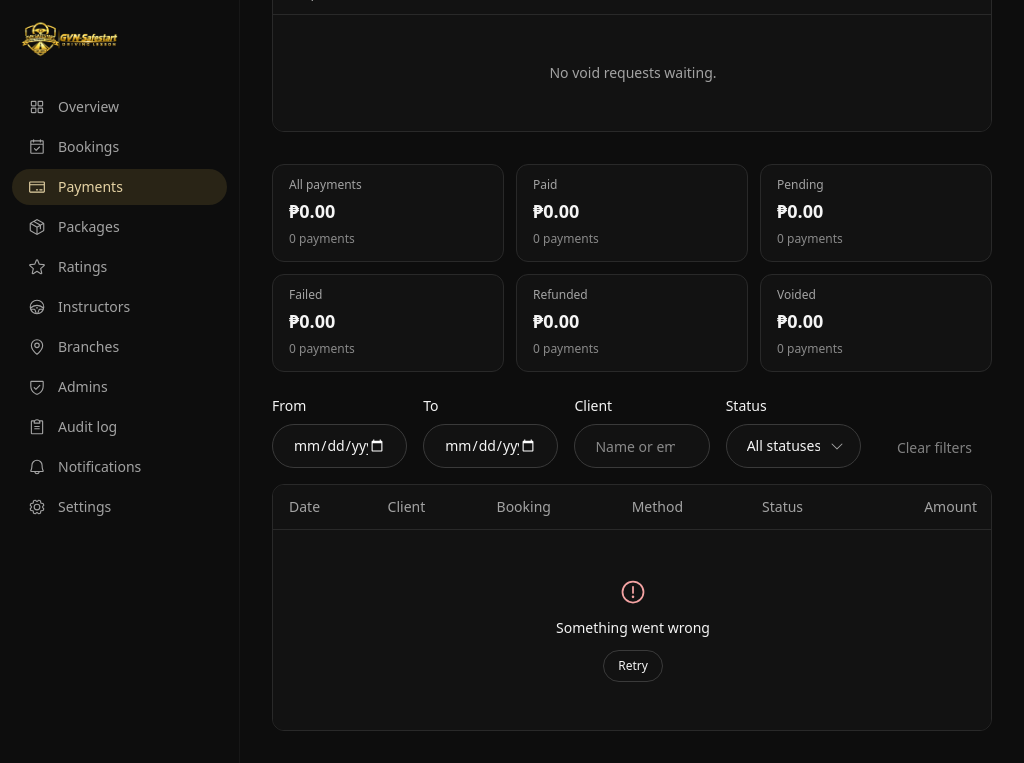
payments › shows an error with retry
(page scrolled)
Expected: the message shows "Something went wrong", [556,618,710,637]
Click the button "Retry" at [633, 666], box [603,650,663,682]
(page scrolled)
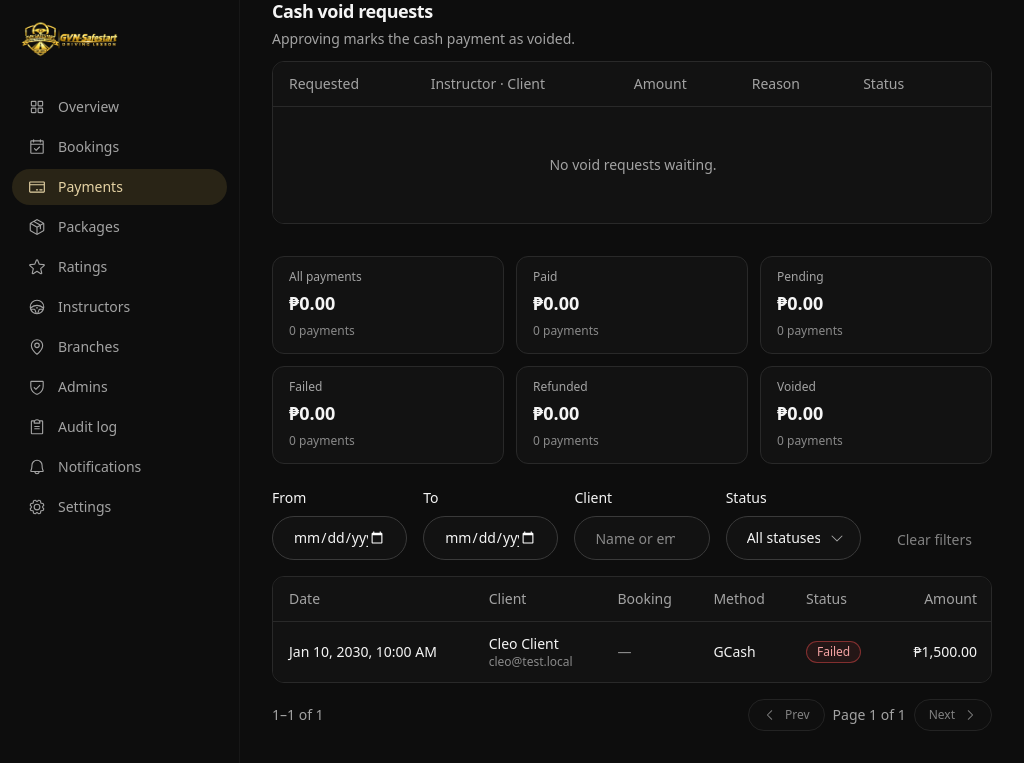
Expected: the text "GCash" is shown, [697,622,790,682]
